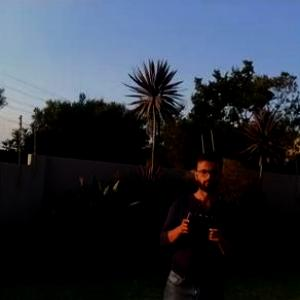follow: (150, 141, 250, 299)
